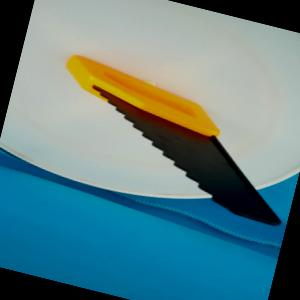serrote: (38, 51, 300, 226)
